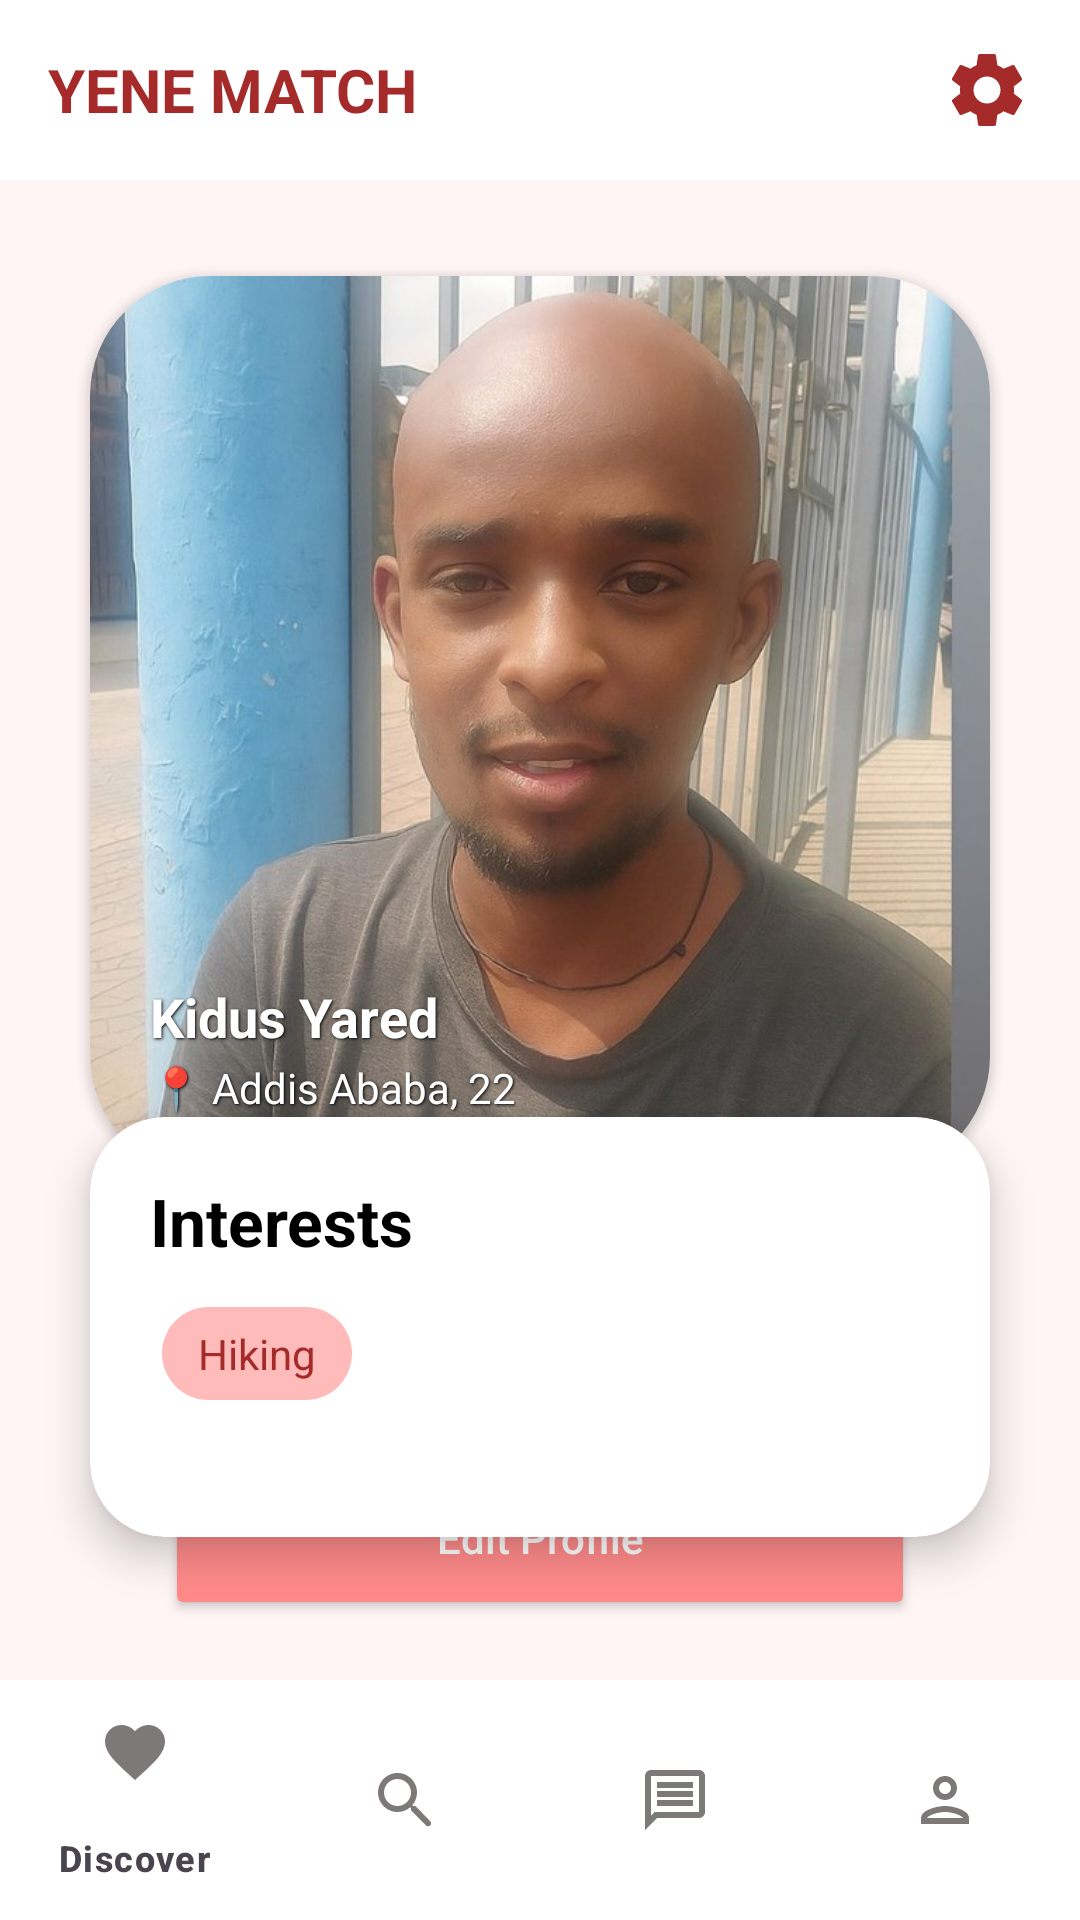

Screen size 1080px×1920px. Icon name, then its box in pixels as (x1, y1, x2, y2):
settings: (952, 54, 1022, 126)
